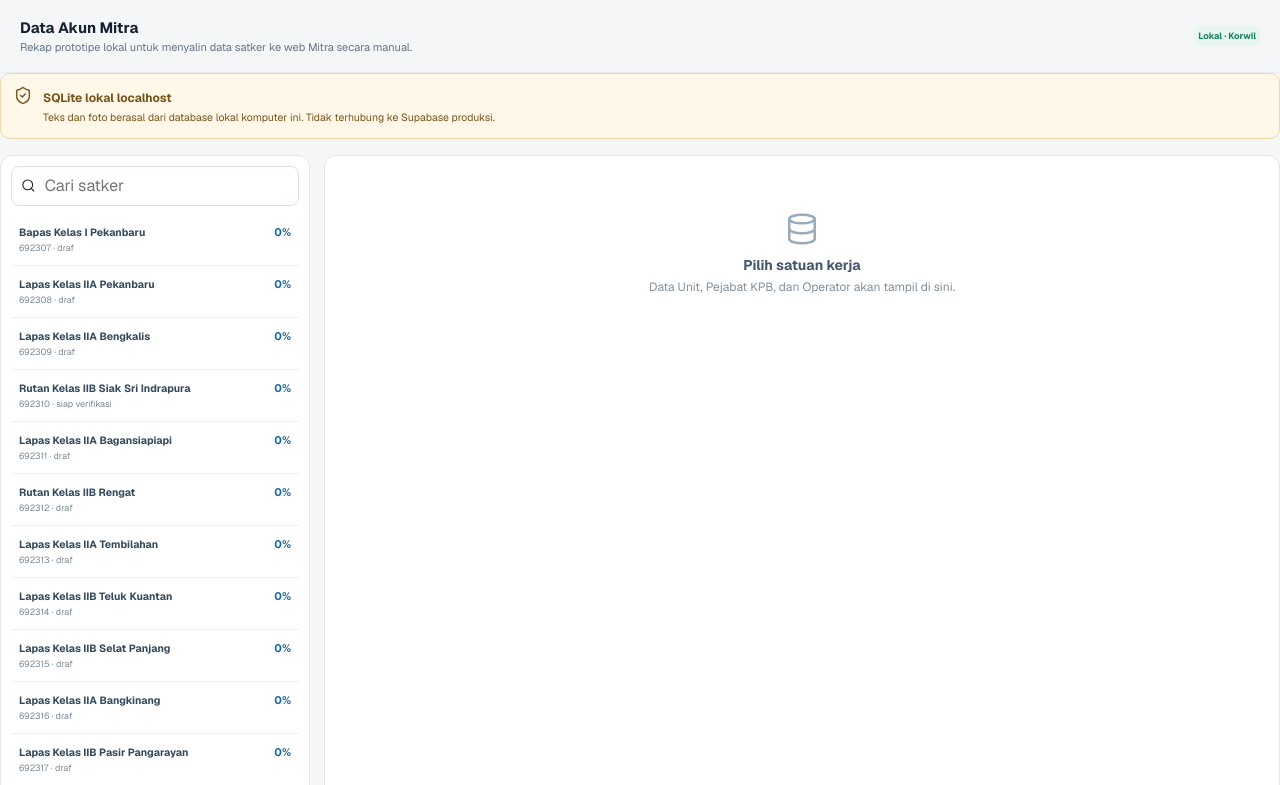
Test case: Rekap Akun Mitra Korwil › allows Korwil to request revision with a required note
The image size is (1280, 785).
Click the button "Rutan Kelas IIB Siak Sri Indrapura" at coordinates (155, 396), box [11, 370, 299, 422]
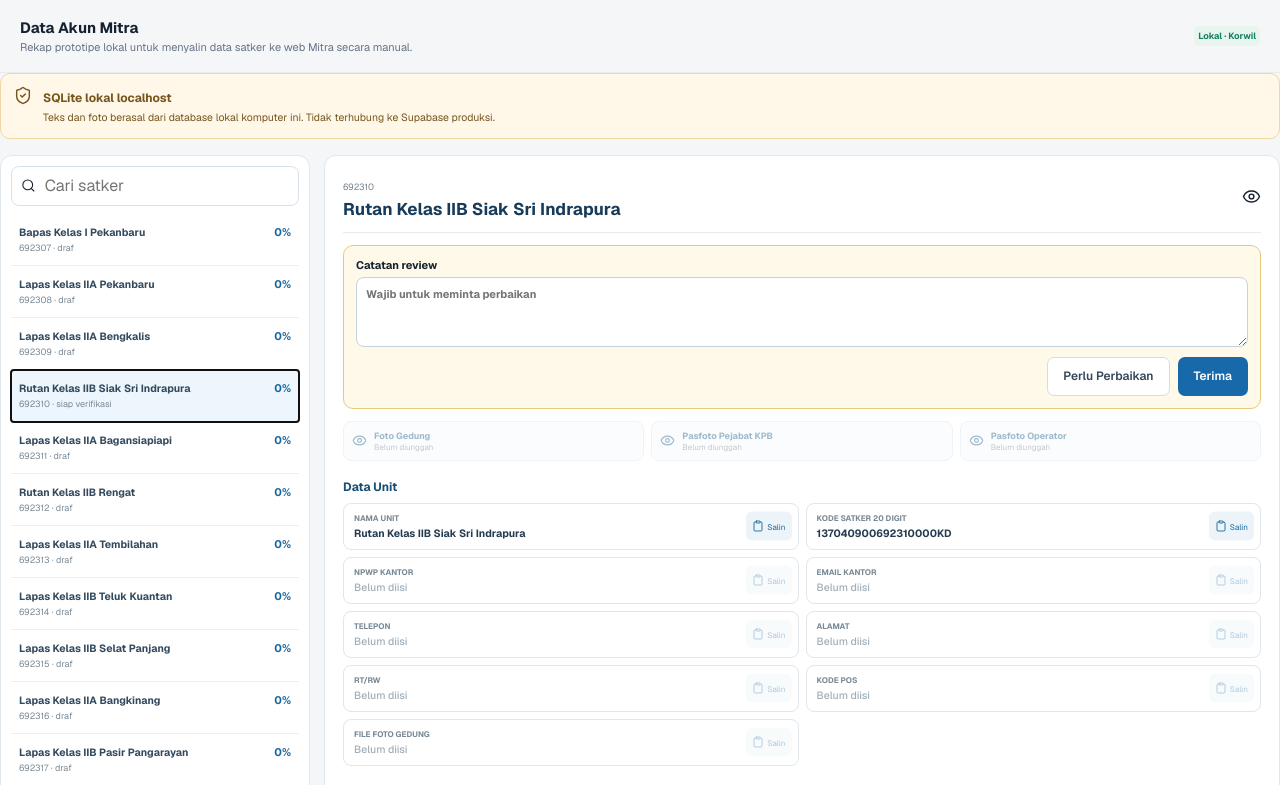
Type "Perbaiki email kantor." into the text box labelled "Catatan review" at coordinates (802, 312), box [356, 277, 1248, 347]
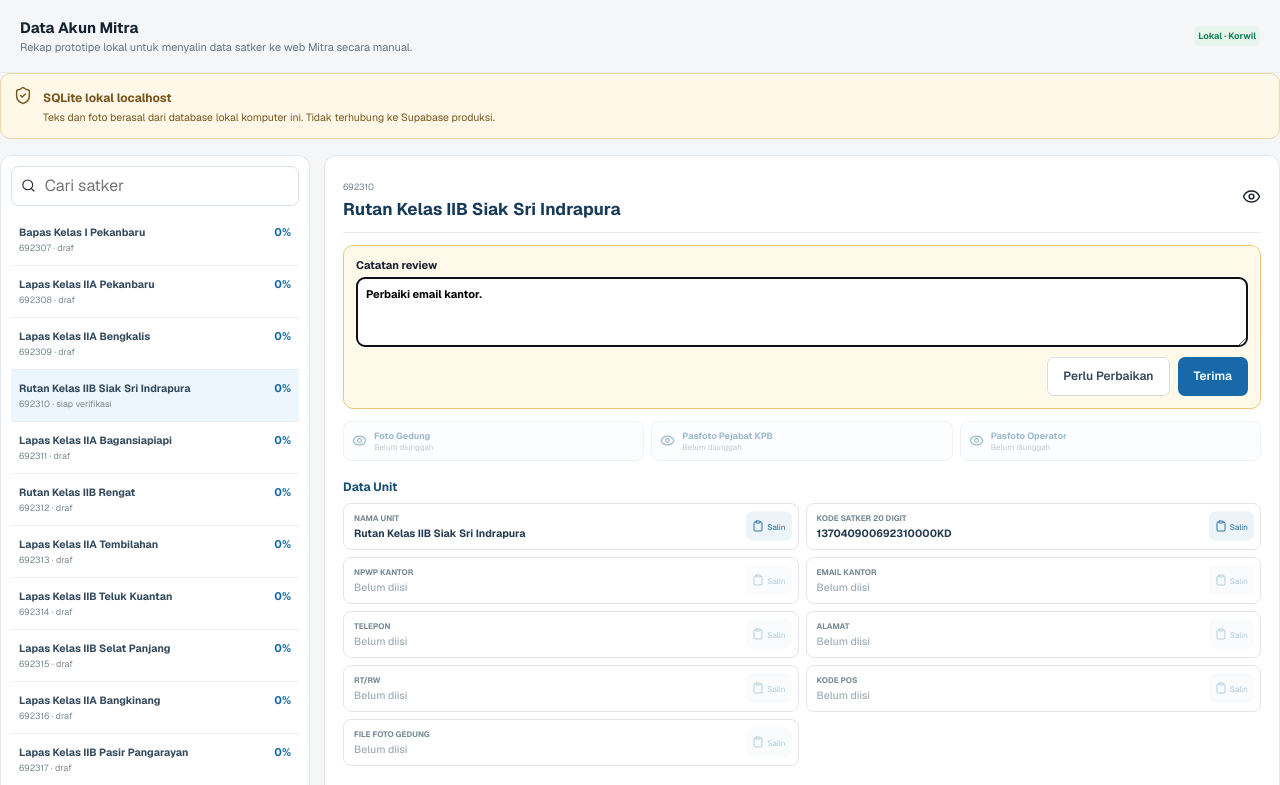
Click the button "Perlu Perbaikan" at coordinates (1108, 376), box [1047, 357, 1170, 396]
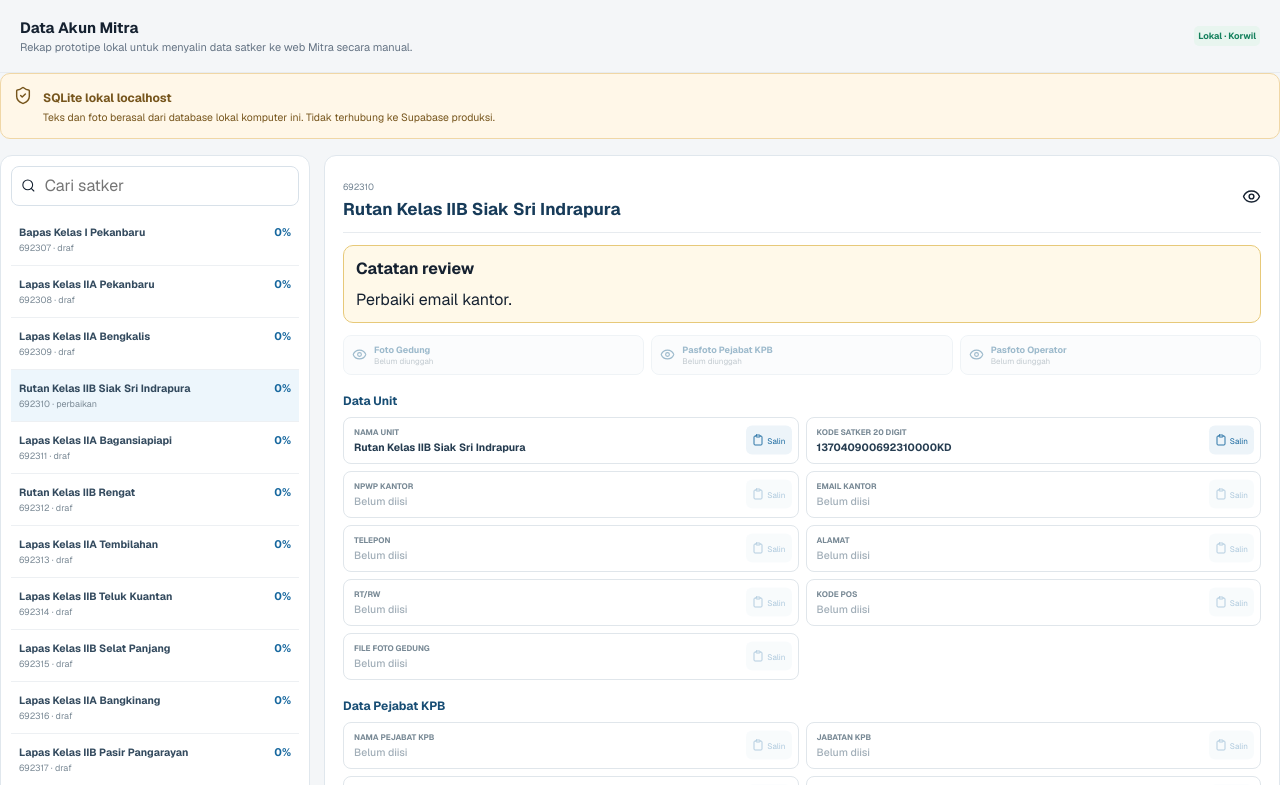
Expected: the text "Perbaiki email kantor." is shown, [356, 289, 512, 310]
